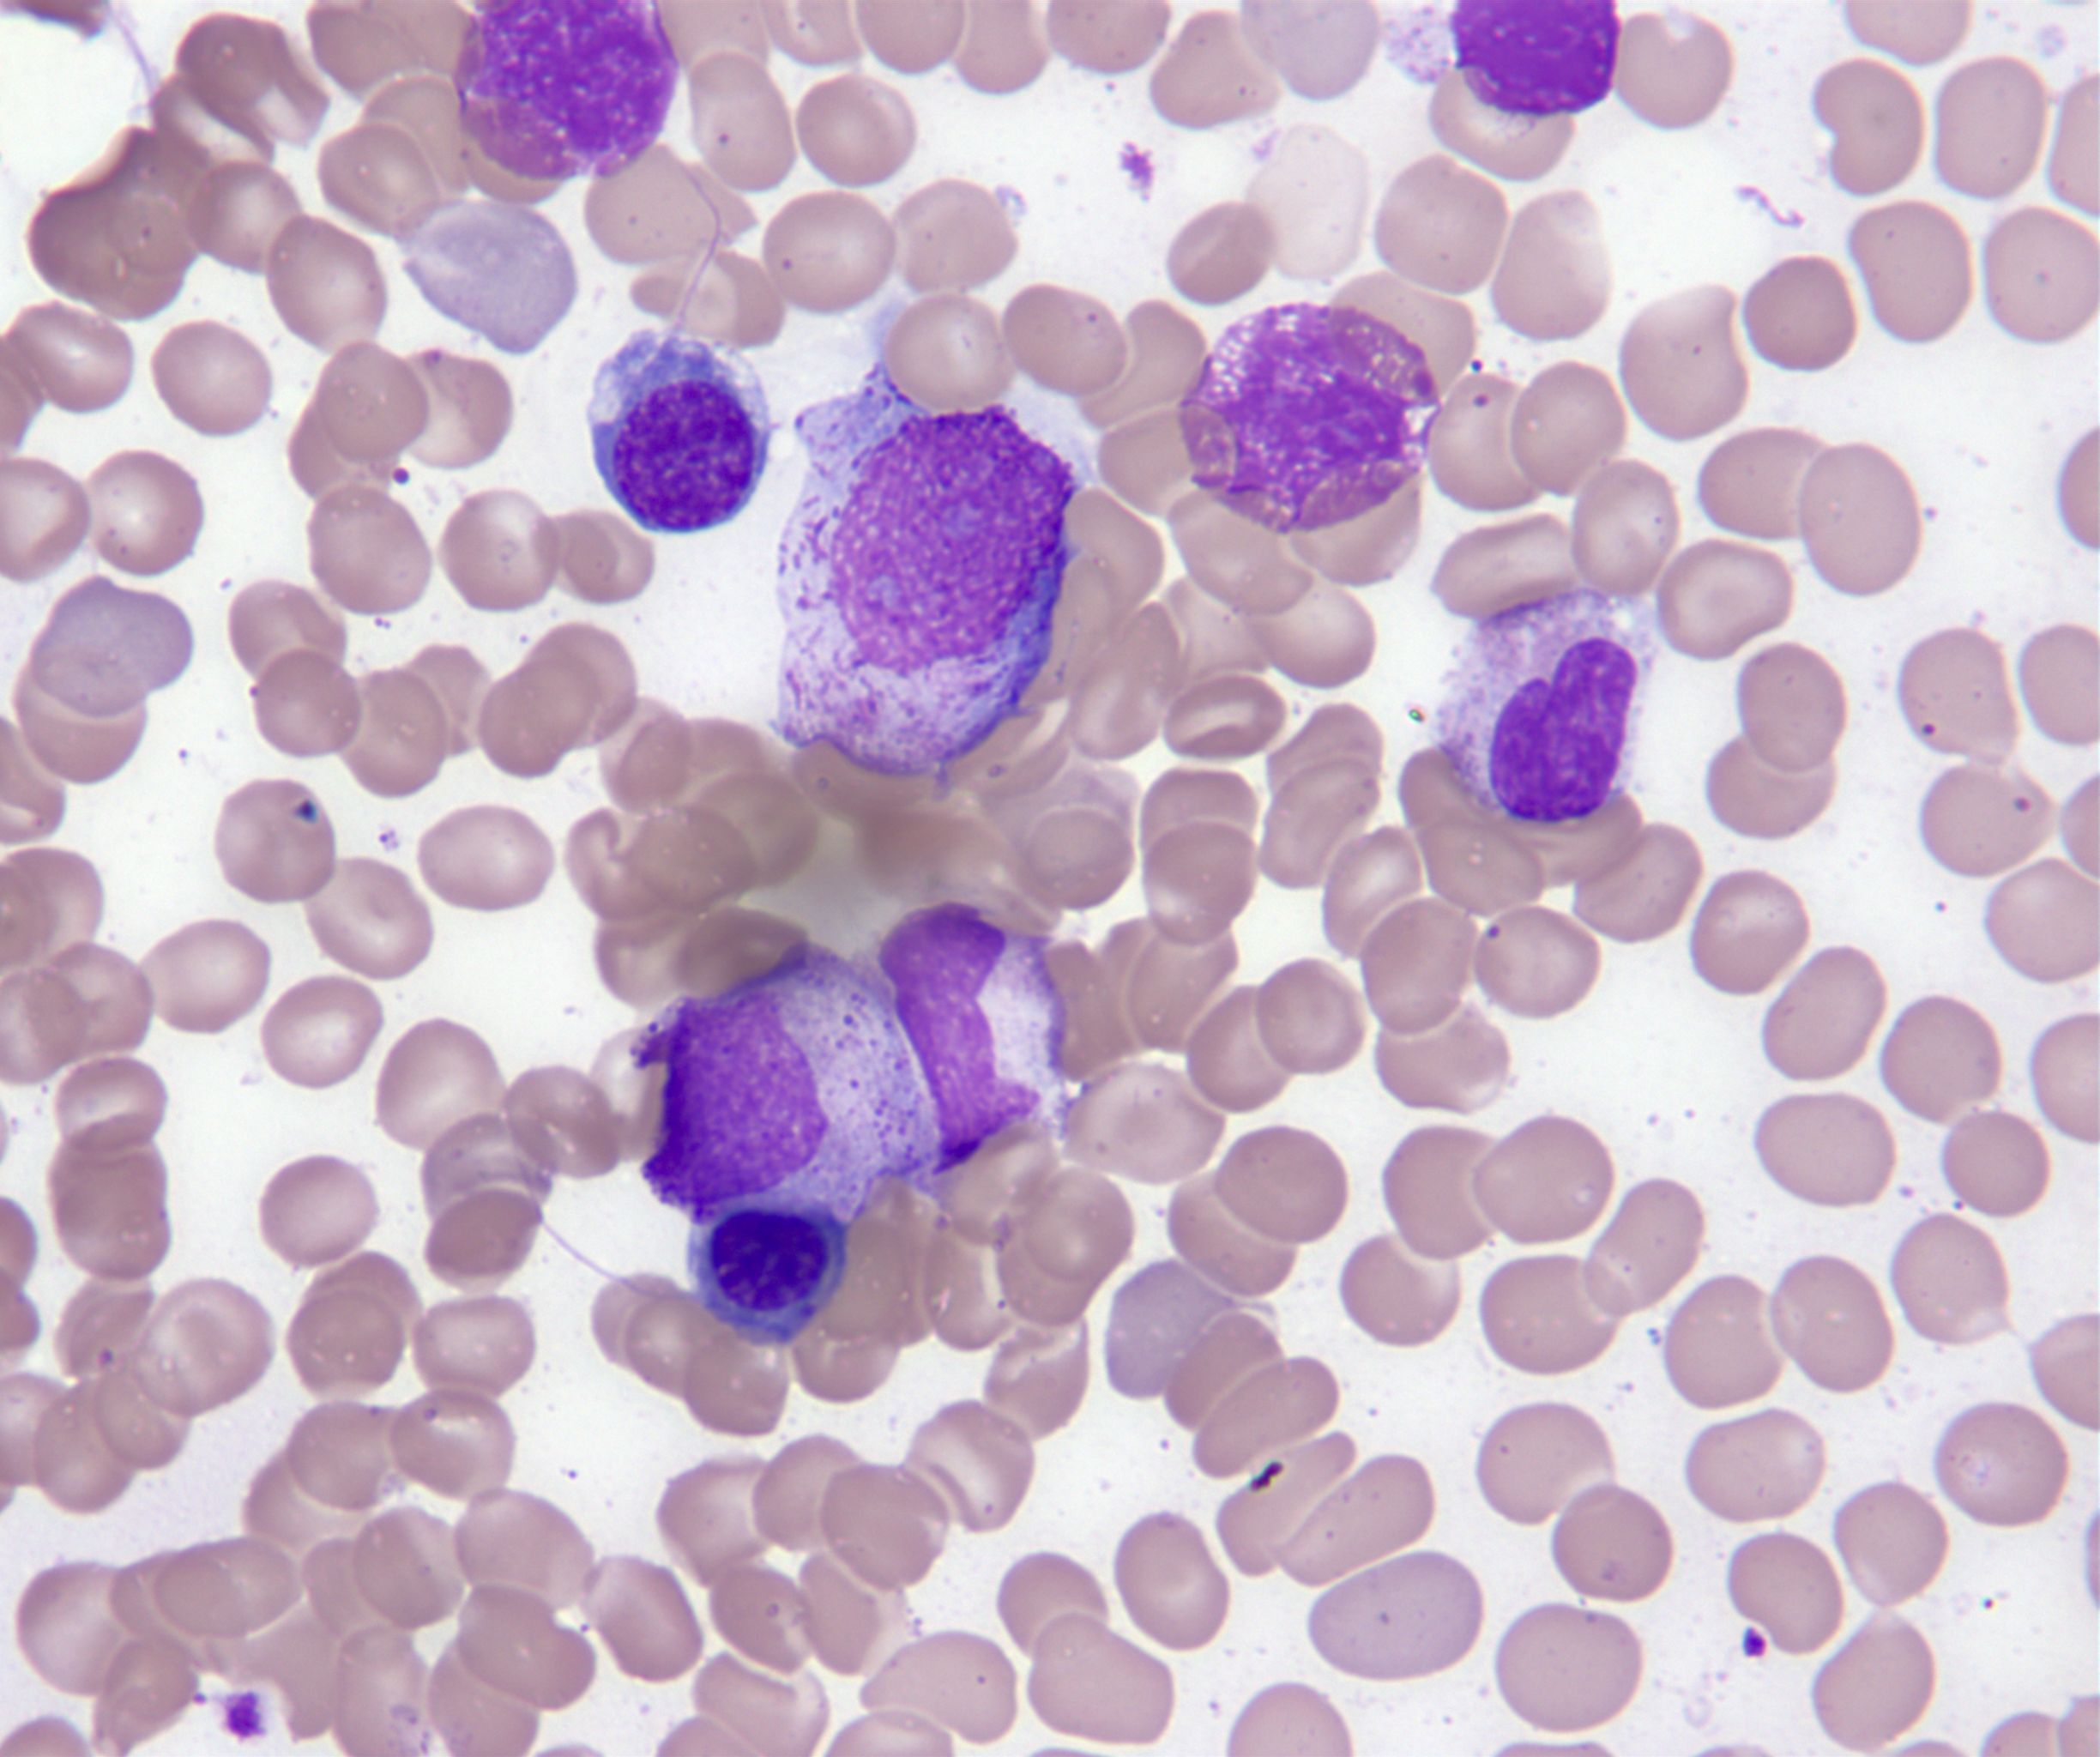23: (588, 330, 769, 534)
24: (689, 1190, 844, 1345)
3: (766, 359, 1076, 776), (624, 939, 940, 1228)
4: (1430, 591, 1657, 829), (877, 902, 1067, 1181)
x: (1181, 302, 1441, 534), (452, 0, 678, 181), (1449, 0, 1619, 117)
